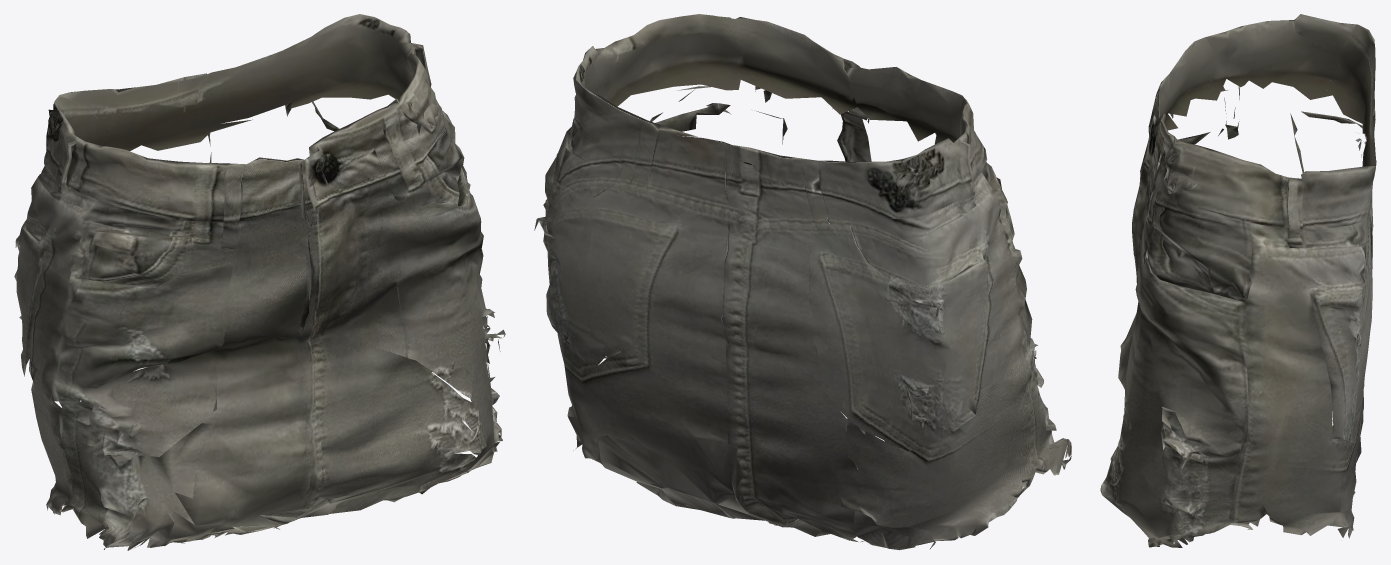
The picture shows the model from 3 angles, left to right: view 1: azimuth 30°, elevation 25°; view 2: azimuth 150°, elevation 25°; view 3: azimuth 270°, elevation 25°; orthographic projection. The views are drawn at different scales.
Parts seen in each view (by area): view 1: Roupa_007; view 2: Roupa_007; view 3: Roupa_007.
Part boxes in pixels (x1,y1,x2,y2): Roupa_007: (14,14,505,550); Roupa_007: (534,14,1071,550); Roupa_007: (1100,14,1376,547).
Bounding box in the file's own units: 0.3904 × 0.3712 × 0.2183.
Materials: 1 (1 with a texture image).
